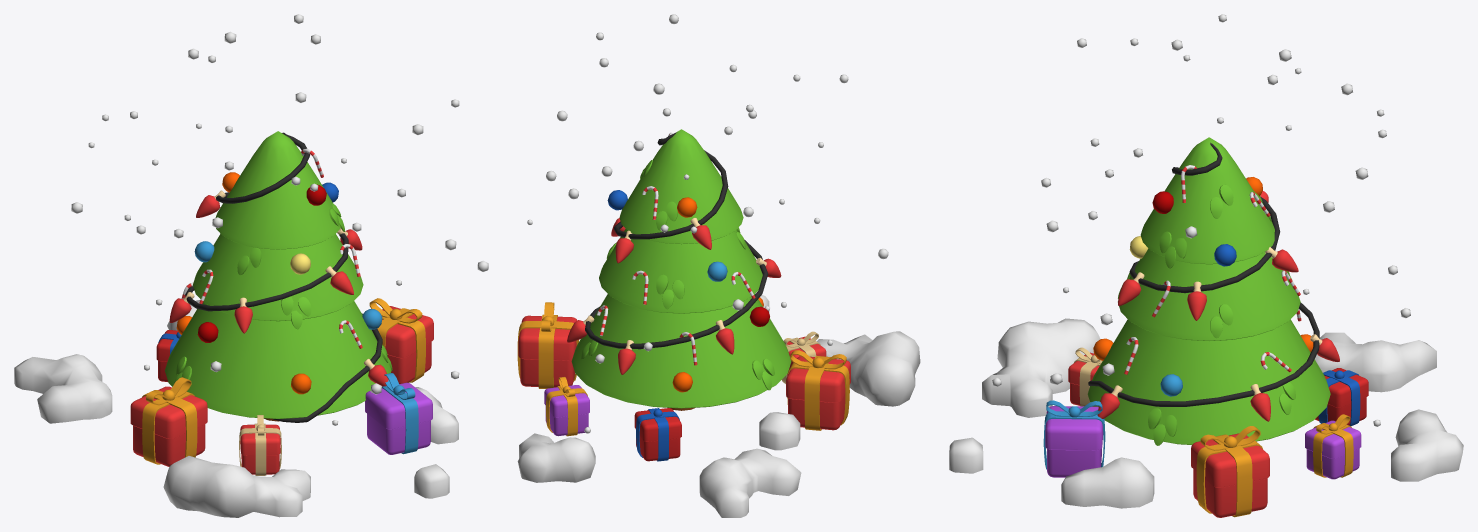
File: ChristmasTree_Scene2.fbx
The picture shows the model from 3 angles, left to right: view 1: azimuth 30°, elevation 25°; view 2: azimuth 150°, elevation 25°; view 3: azimuth 270°, elevation 25°; orthographic projection. The views are drawn at different scales.
Visible parts, largest first — view 1: ChristmasTree_Scene2; view 2: ChristmasTree_Scene2; view 3: ChristmasTree_Scene2.
Boxes of the visible parts, x1,y1,x2,y2 form: ChristmasTree_Scene2: [14, 14, 488, 517]; ChristmasTree_Scene2: [517, 14, 920, 517]; ChristmasTree_Scene2: [949, 14, 1463, 517].
Size of the model in its own units: 9.08 by 11.08 by 9.99.
